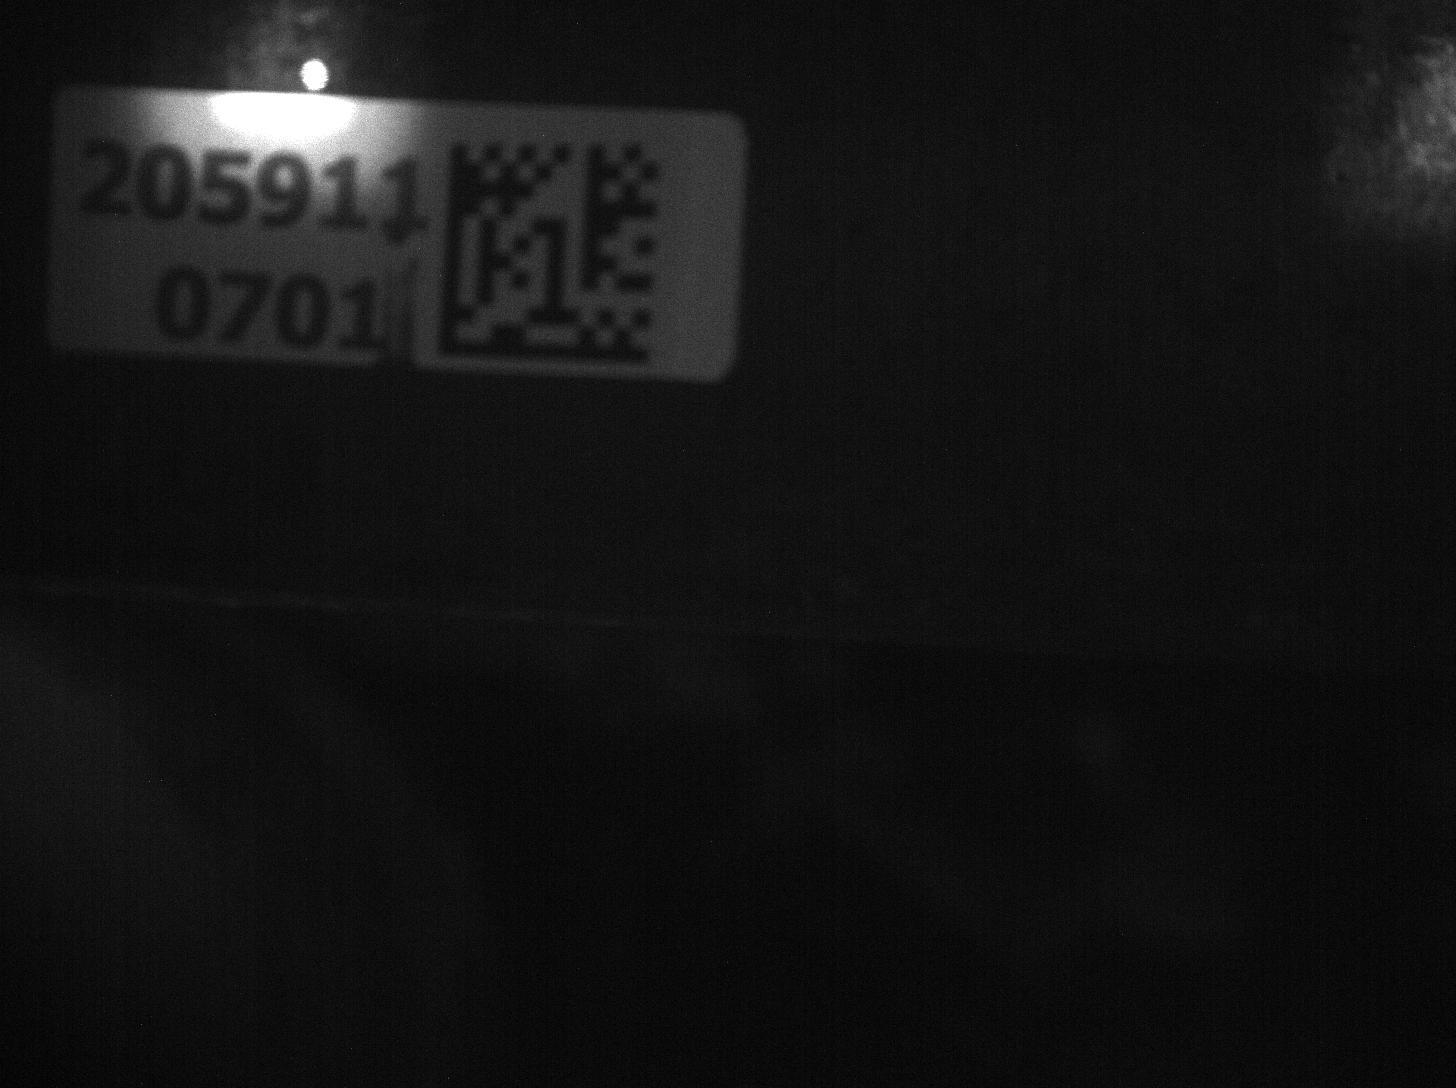data matrix: (426, 117, 677, 385)
